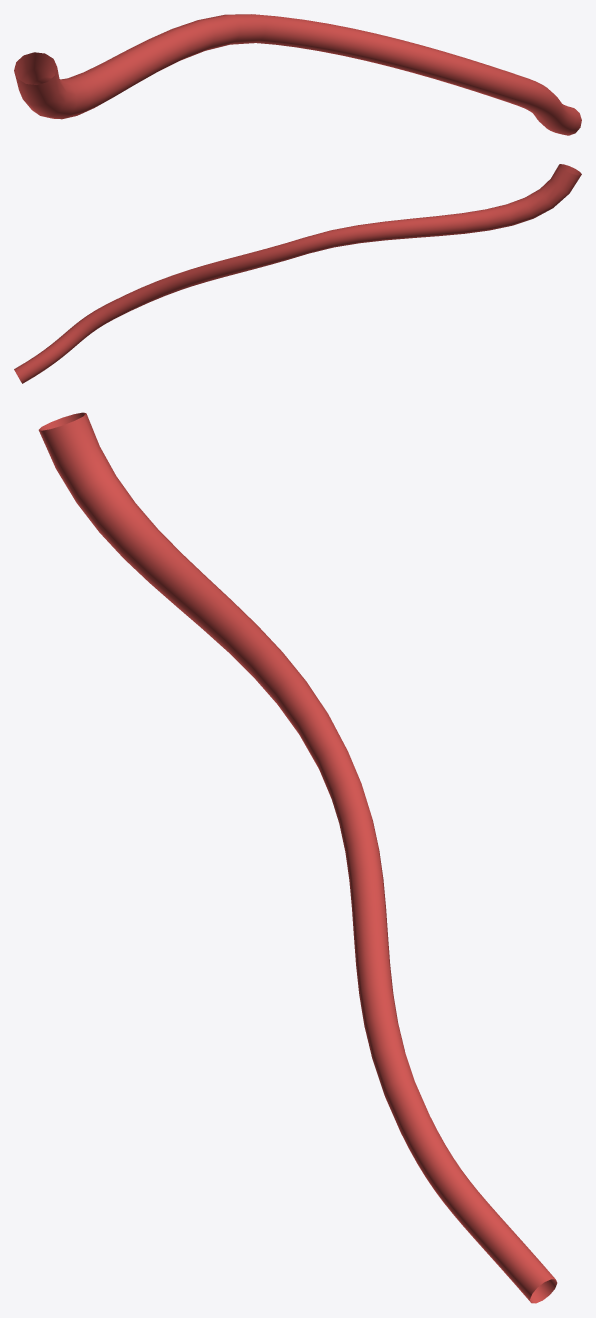
3 views of the same model, one above another, from view 1: azimuth 30°, elevation 25°; view 2: azimuth 150°, elevation 25°; view 3: azimuth 270°, elevation 25° (orthographic). The views are drawn at different scales.
Parts seen in each view (by area): view 1: 左侧足底外侧动脉; view 2: 左侧足底外侧动脉; view 3: 左侧足底外侧动脉.
Boxes of the visible parts, bbox=[...] form: 左侧足底外侧动脉: bbox=[14, 14, 581, 135]; 左侧足底外侧动脉: bbox=[14, 164, 581, 383]; 左侧足底外侧动脉: bbox=[38, 412, 557, 1303].
Size of the model in its own units: 0.06 by 0.0302 by 0.0301.
